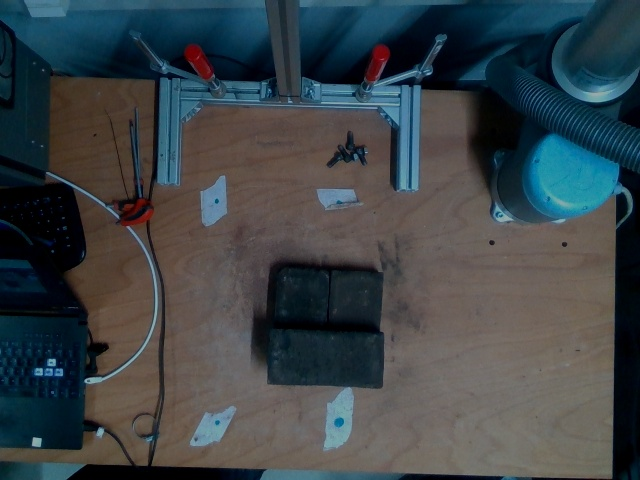brick: (269, 327, 382, 388)
